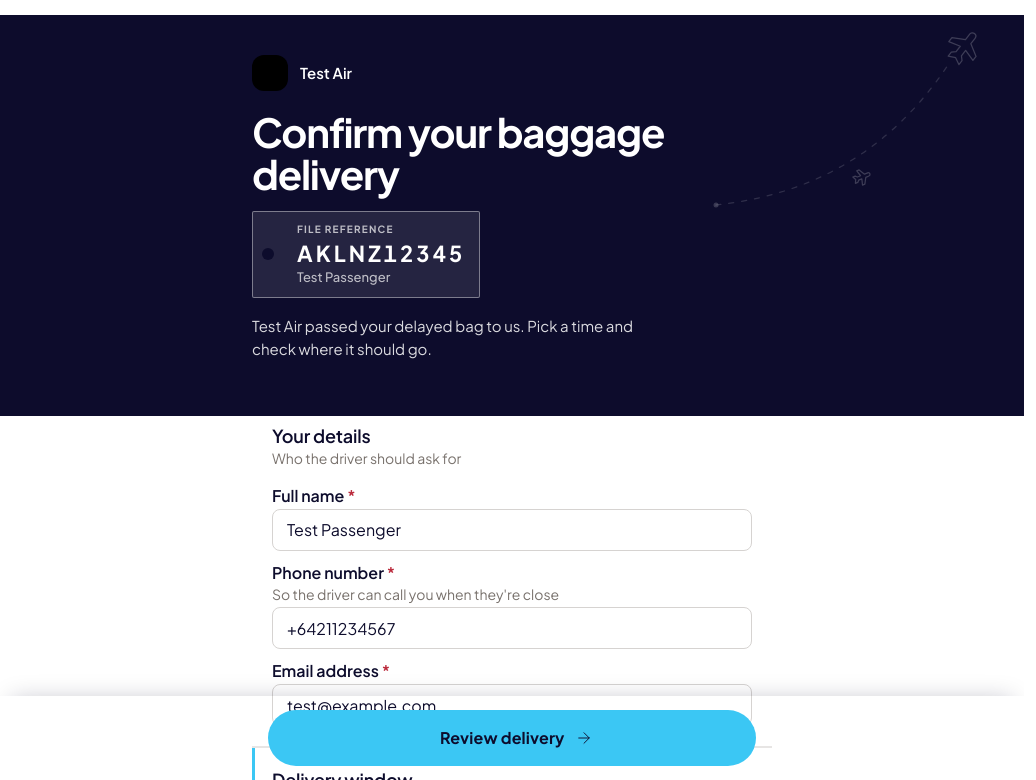
Test: PaxMobile — typing in the form › leaves the hero and the footer alone
The width and height of the screenshot is (1036, 780).
Step 1. Type " Jr" into the field labelled "Full name *" → (512, 530), box [272,509,752,551]
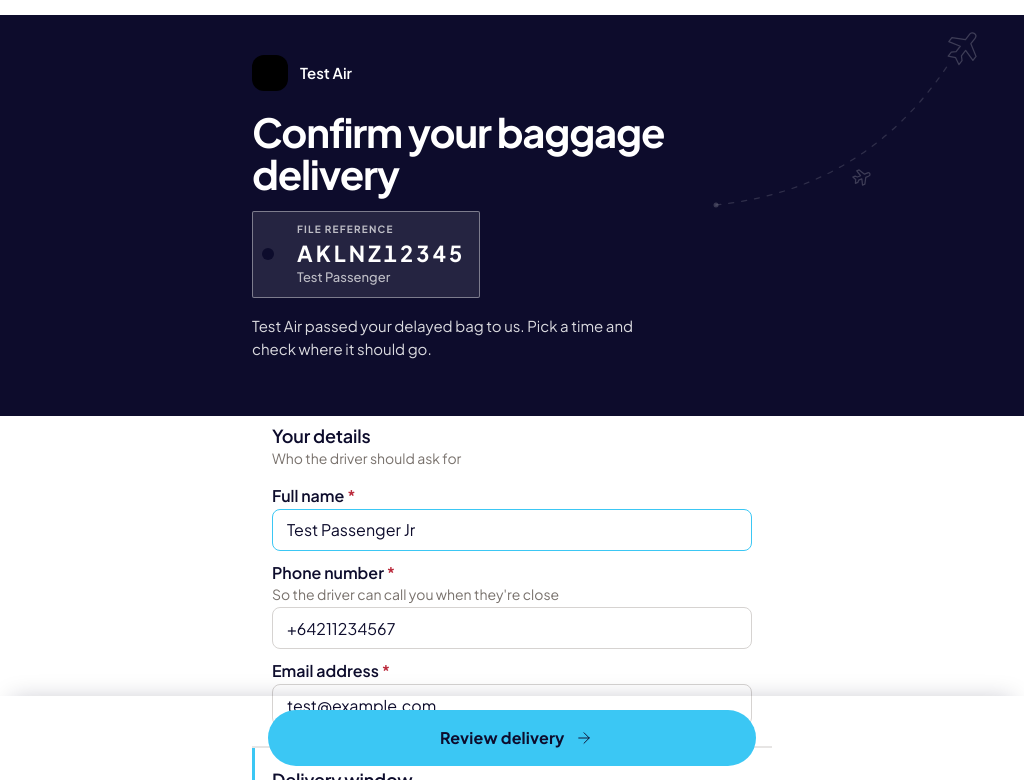
Expected: the field labelled "Full name *" holds "Test Passenger Jr", [272,509,752,551]
